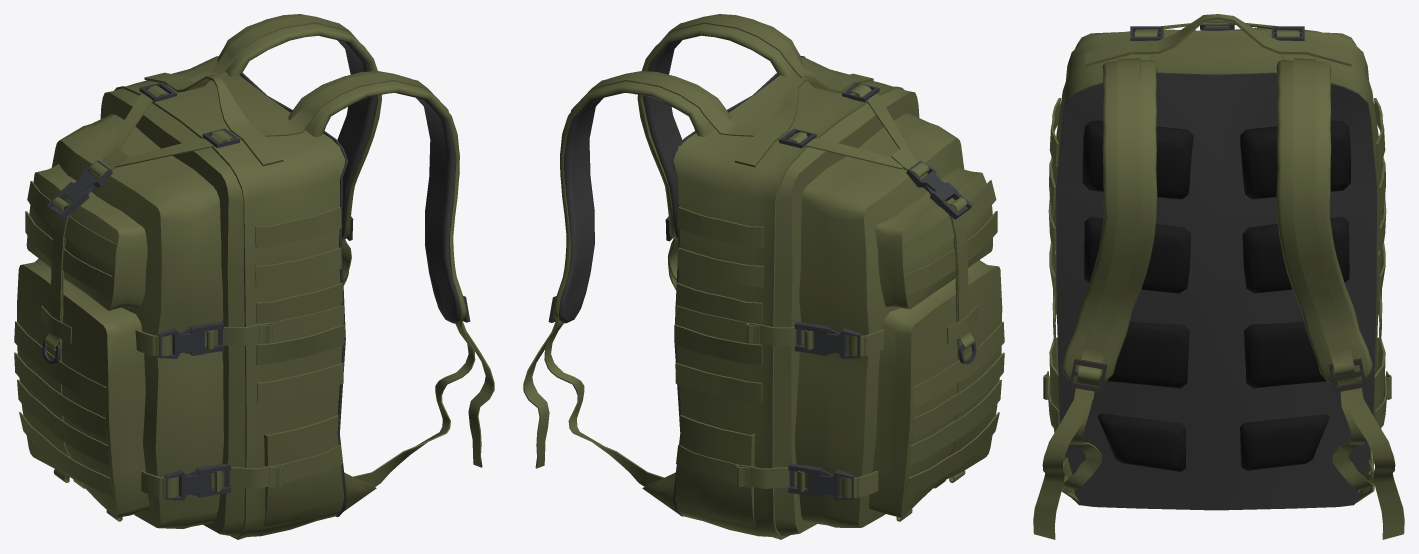
File: bags_0.gltf
3 views of the same model, side by side, from view 1: azimuth 30°, elevation 25°; view 2: azimuth 150°, elevation 25°; view 3: azimuth 270°, elevation 25° (orthographic). The views are drawn at different scales.
Parts seen in each view (by area): view 1: bag0; view 2: bag0; view 3: bag0.
Part boxes in pixels (<box>): bag0: <box>14,14,494,539</box>; bag0: <box>523,14,1004,539</box>; bag0: <box>1033,14,1404,539</box>.
Bounding box in the file's own units: 0.9667 × 1.04 × 0.75.
